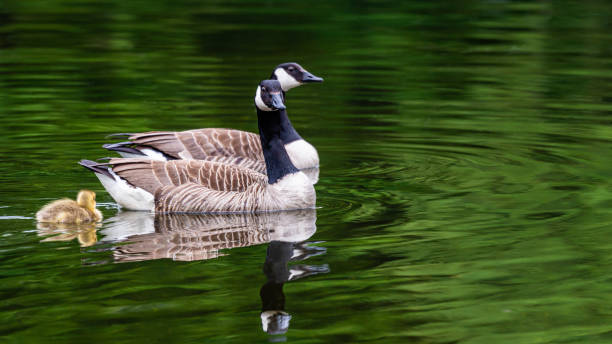goose: (74, 76, 320, 220), (98, 57, 326, 166)
